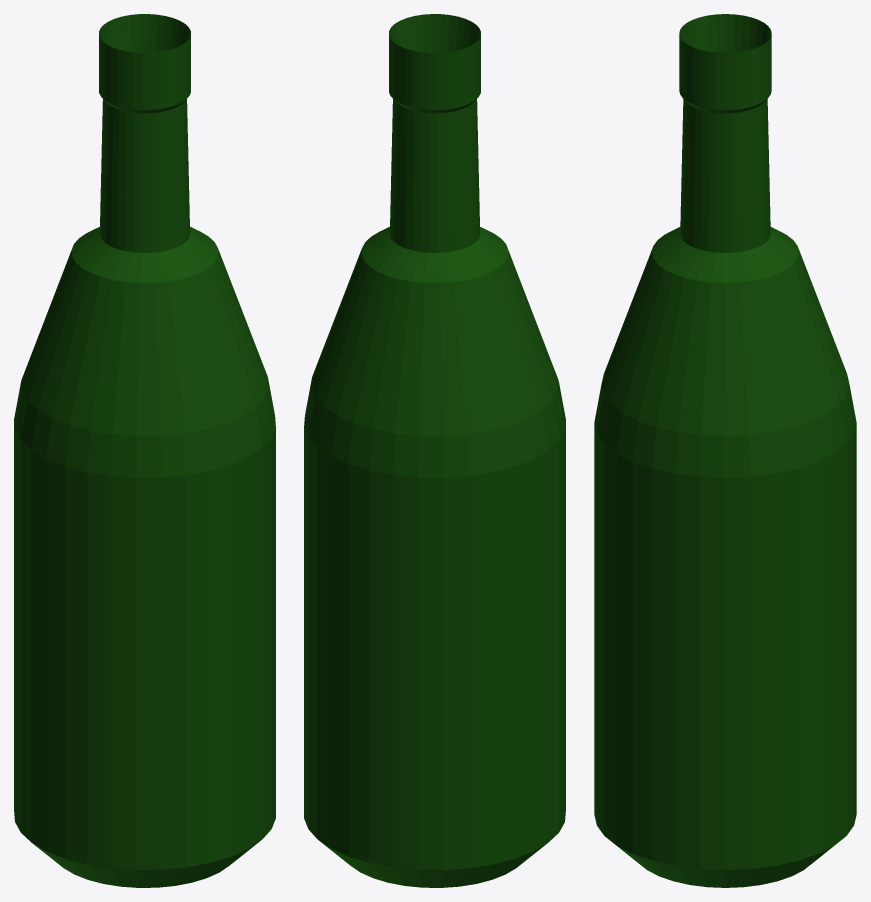
The model's file is Bottle.obj.
3 renders of one model, left to right at view 1: azimuth 30°, elevation 25°; view 2: azimuth 150°, elevation 25°; view 3: azimuth 270°, elevation 25°, orthographic.
Visible parts, largest first — view 1: Cylinder; view 2: Cylinder; view 3: Cylinder.
Boxes of the visible parts, x1=… form: Cylinder: x1=14, y1=14, x2=275, y2=887; Cylinder: x1=304, y1=14, x2=565, y2=887; Cylinder: x1=594, y1=14, x2=856, y2=887.
Size of the model in its own units: 0.8 by 2.74 by 0.8.
